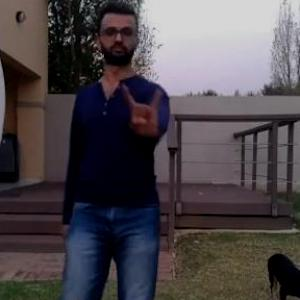takeoff-hand: (120, 78, 166, 141)
